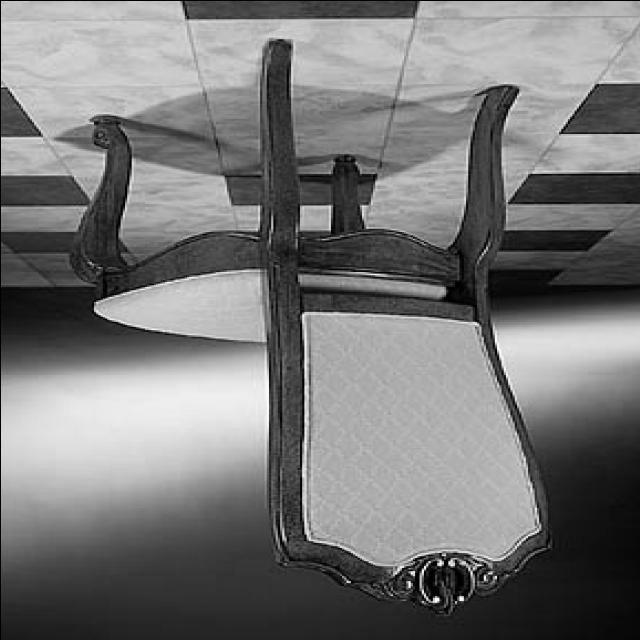chair: (71, 39, 559, 619)
